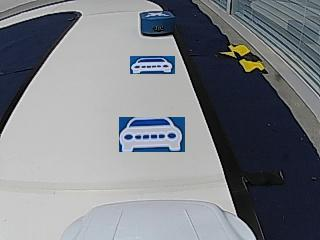prop: (140, 11, 175, 36)
